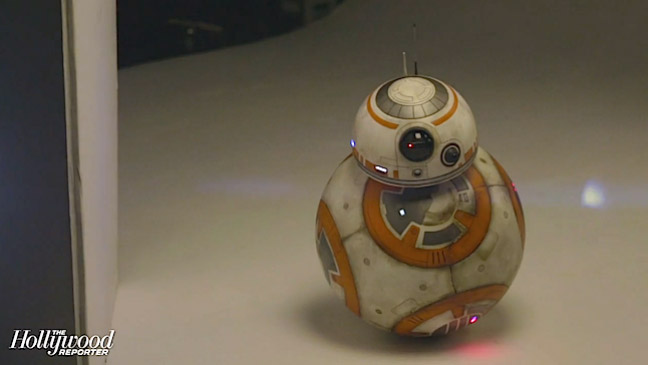bb8: (314, 75, 526, 338)
